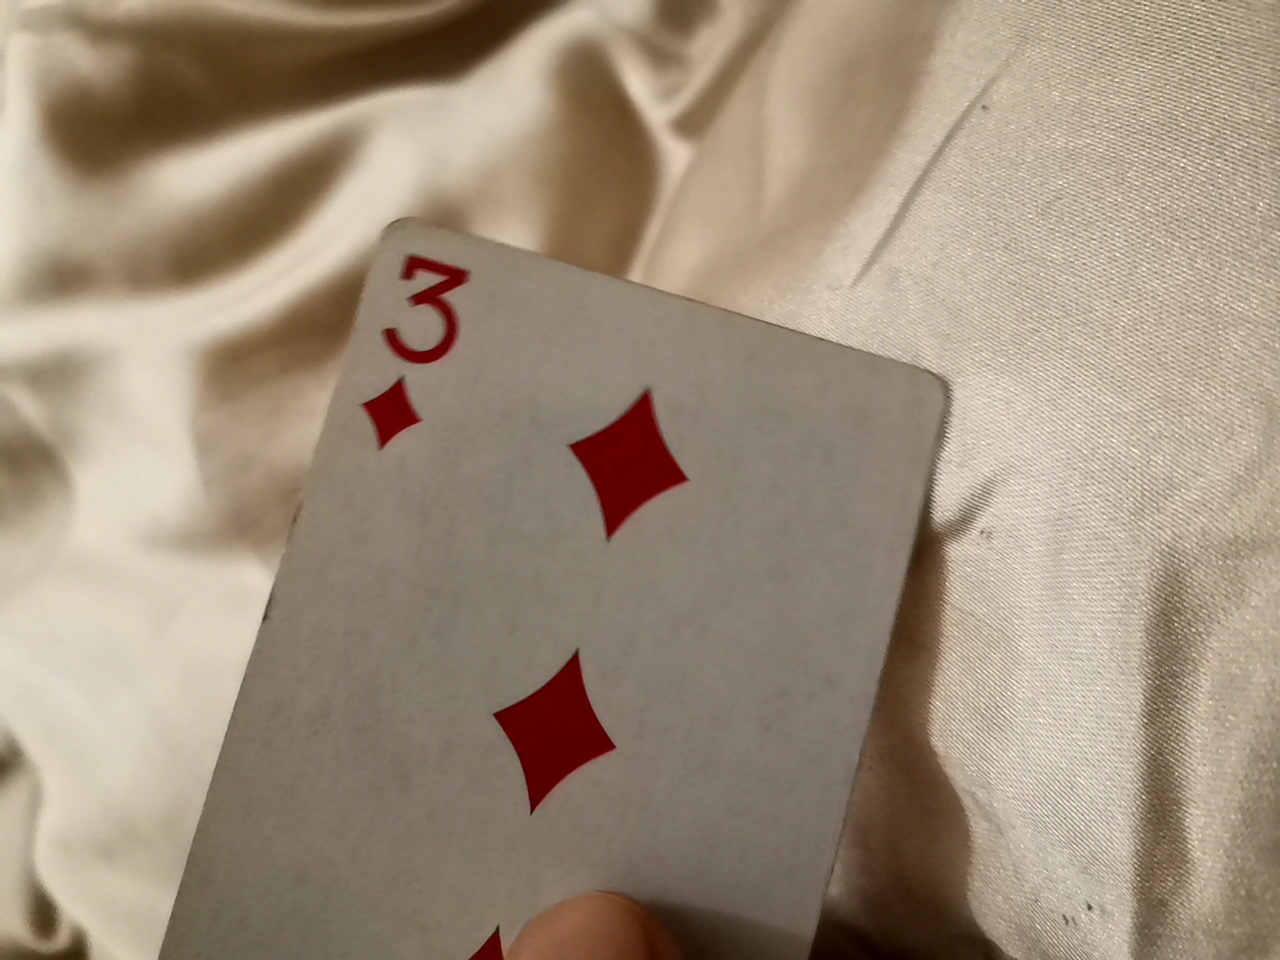fk 3: (199, 210, 951, 951)
